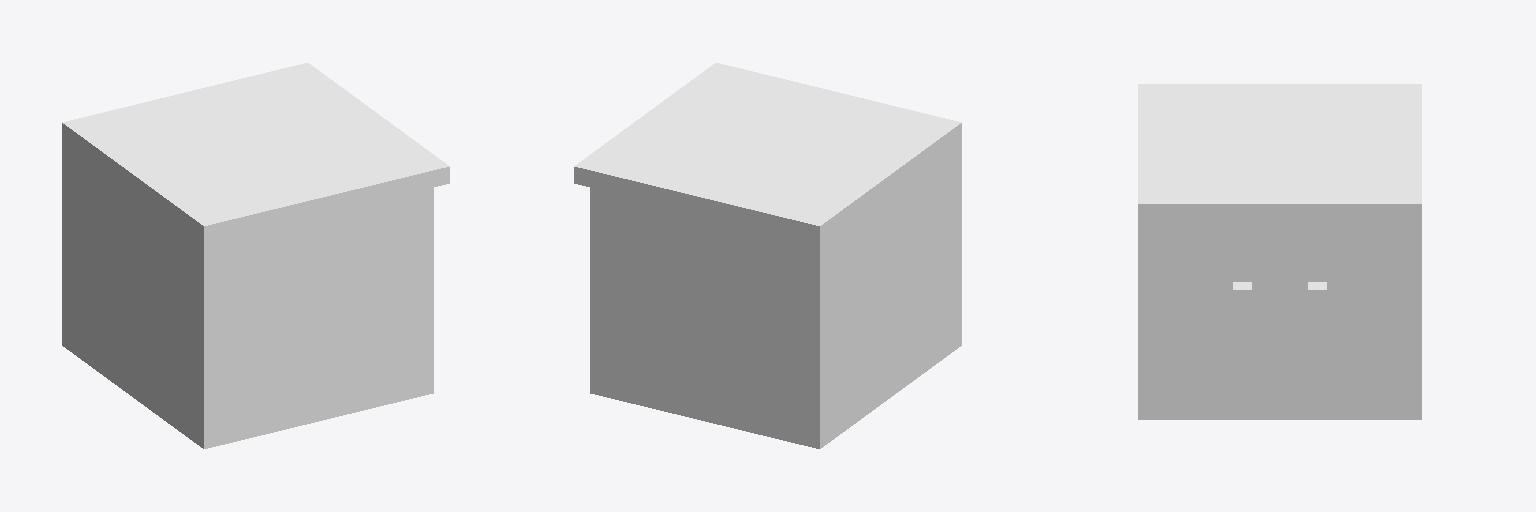
The model's file is Kitchen-1.obj.
3 renders of one model, left to right at view 1: azimuth 30°, elevation 25°; view 2: azimuth 150°, elevation 25°; view 3: azimuth 270°, elevation 25°, orthographic.
Visible parts, largest first — view 1: Kitchen-1; view 2: Kitchen-1; view 3: Kitchen-1.
Boxes of the visible parts, x1=… form: Kitchen-1: x1=62, y1=63, x2=449, y2=448; Kitchen-1: x1=574, y1=63, x2=961, y2=448; Kitchen-1: x1=1138, y1=84, x2=1421, y2=419.
Bounding box in the file's own units: 15 × 13 × 15.